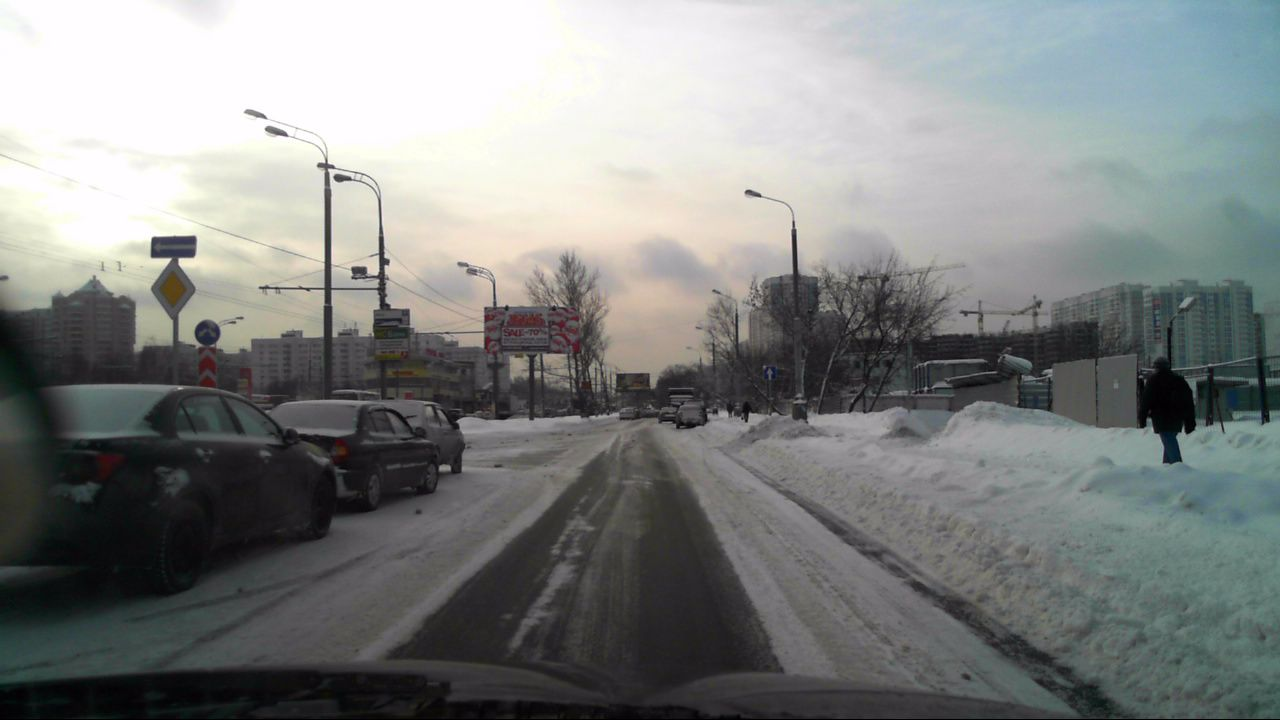One-Way Traffic: (151, 236, 196, 257)
